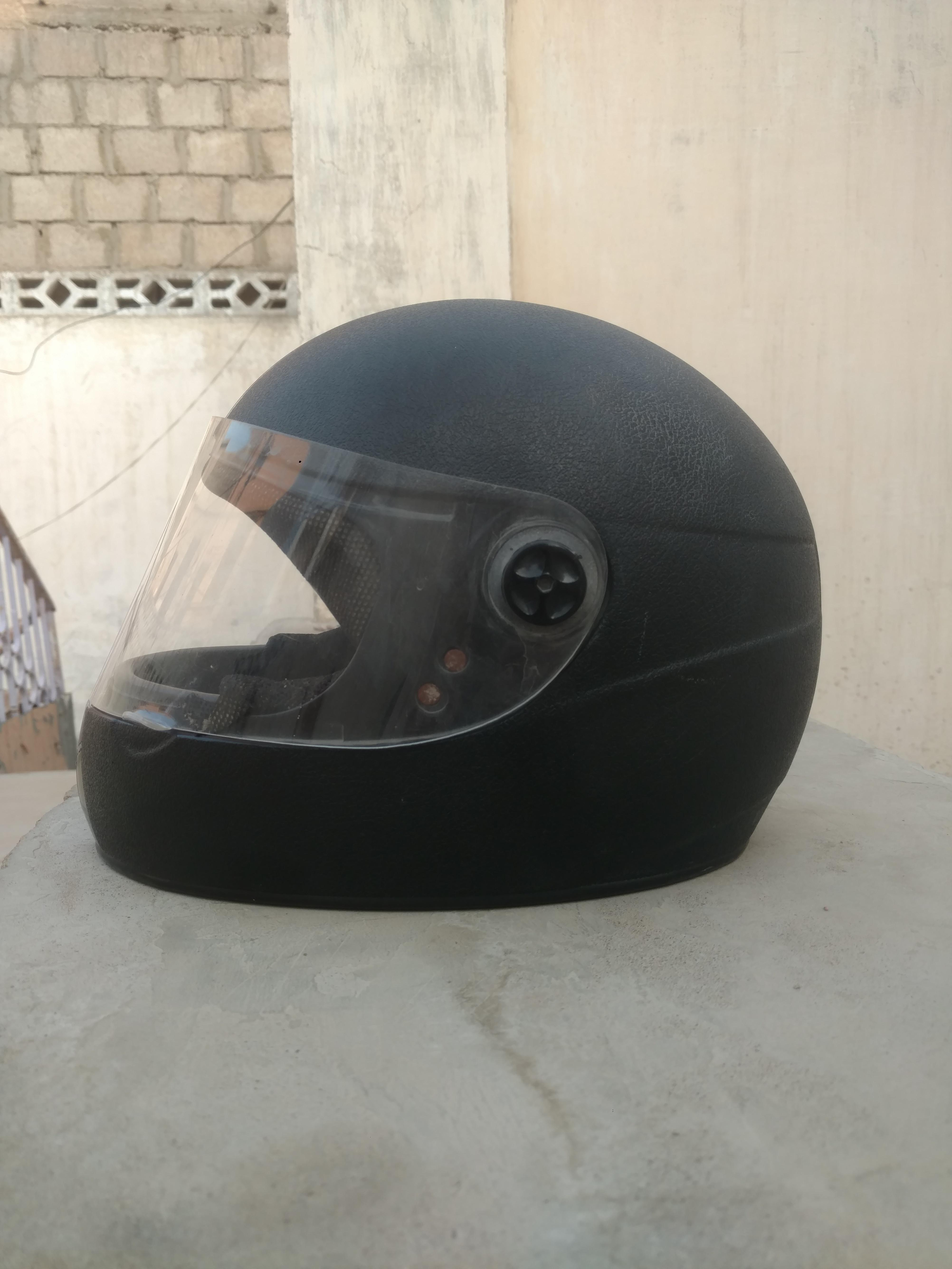helmet: (55, 264, 850, 931)
